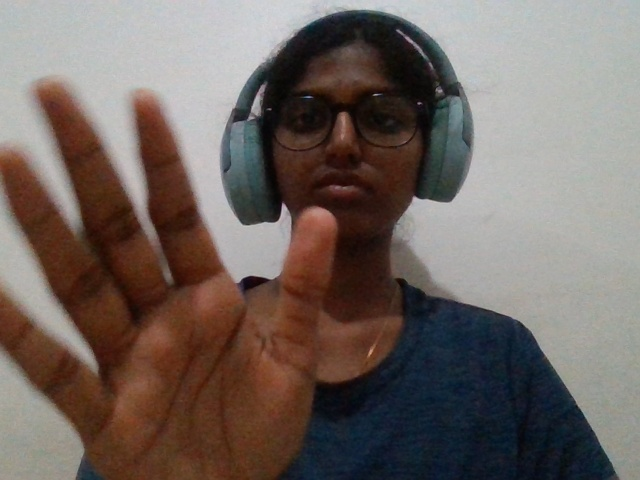Bye: (1, 50, 339, 476)
